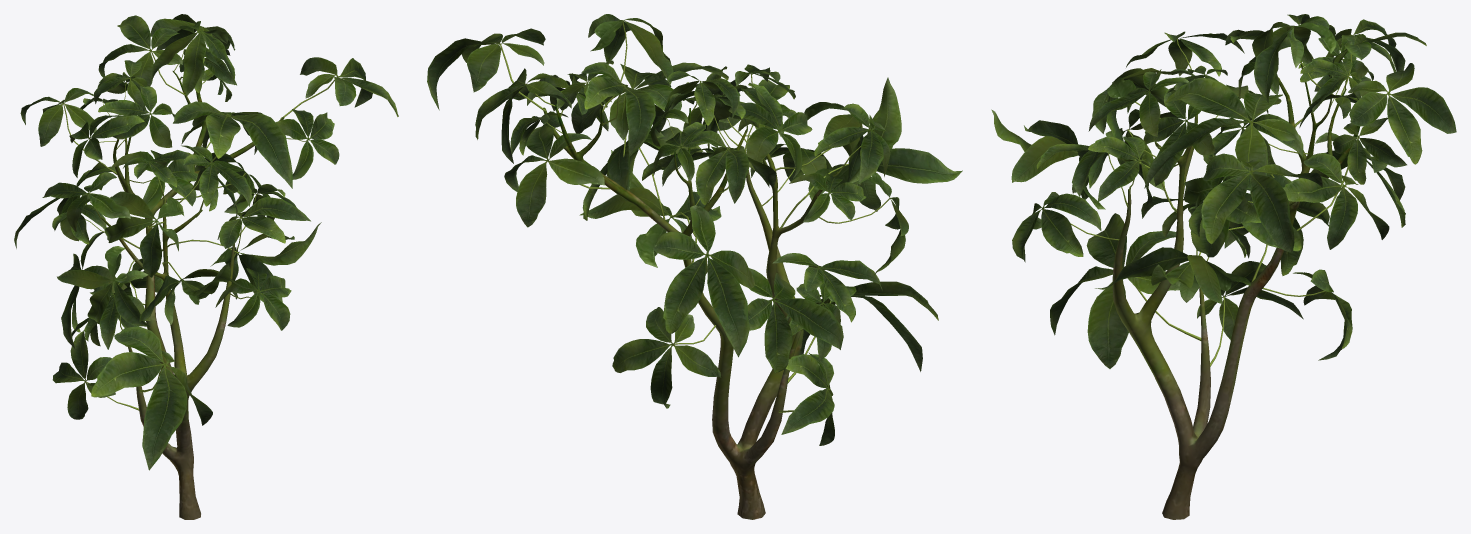
File: tree-pachira-medium.glb
3 views of the same model, side by side, from view 1: azimuth 30°, elevation 25°; view 2: azimuth 150°, elevation 25°; view 3: azimuth 270°, elevation 25° (orthographic). The views are drawn at different scales.
Visible parts, largest first — view 1: pachira_aquatica_01_leaves_c, pachira_aquatica_01_bark_c; view 2: pachira_aquatica_01_leaves_c, pachira_aquatica_01_bark_c; view 3: pachira_aquatica_01_leaves_c, pachira_aquatica_01_bark_c.
Boxes of the visible parts, left/top/right/bottom form: pachira_aquatica_01_leaves_c: left=14, top=14, right=398, bottom=470; pachira_aquatica_01_bark_c: left=101, top=71, right=284, bottom=519; pachira_aquatica_01_leaves_c: left=427, top=14, right=962, bottom=445; pachira_aquatica_01_bark_c: left=543, top=104, right=838, bottom=519; pachira_aquatica_01_leaves_c: left=991, top=14, right=1456, bottom=368; pachira_aquatica_01_bark_c: left=1112, top=60, right=1359, bottom=519.
Size of the model in its own units: 0.9753 by 1.15 by 0.9237.
2 materials, 2 textured.
